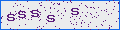s: (18, 11, 26, 19), (71, 8, 79, 15), (47, 15, 55, 22), (31, 10, 39, 17), (7, 14, 15, 21)
